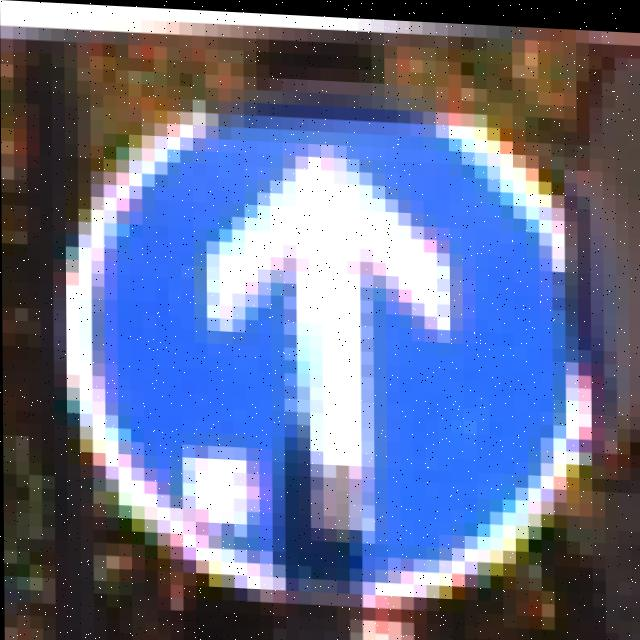compulsory_ahead: (68, 56, 565, 574)
